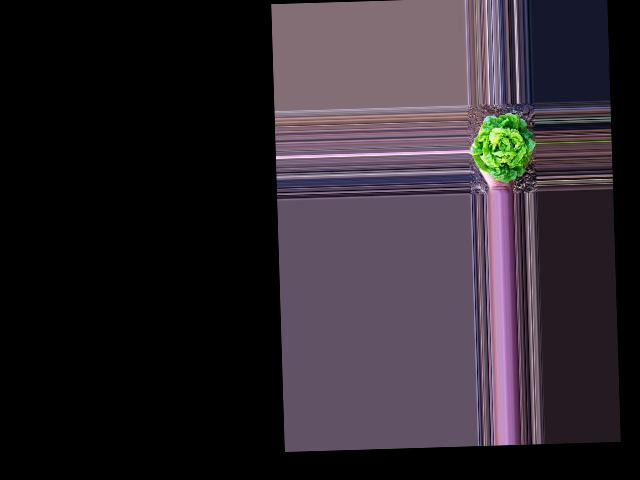lettuce: (471, 111, 534, 178)
